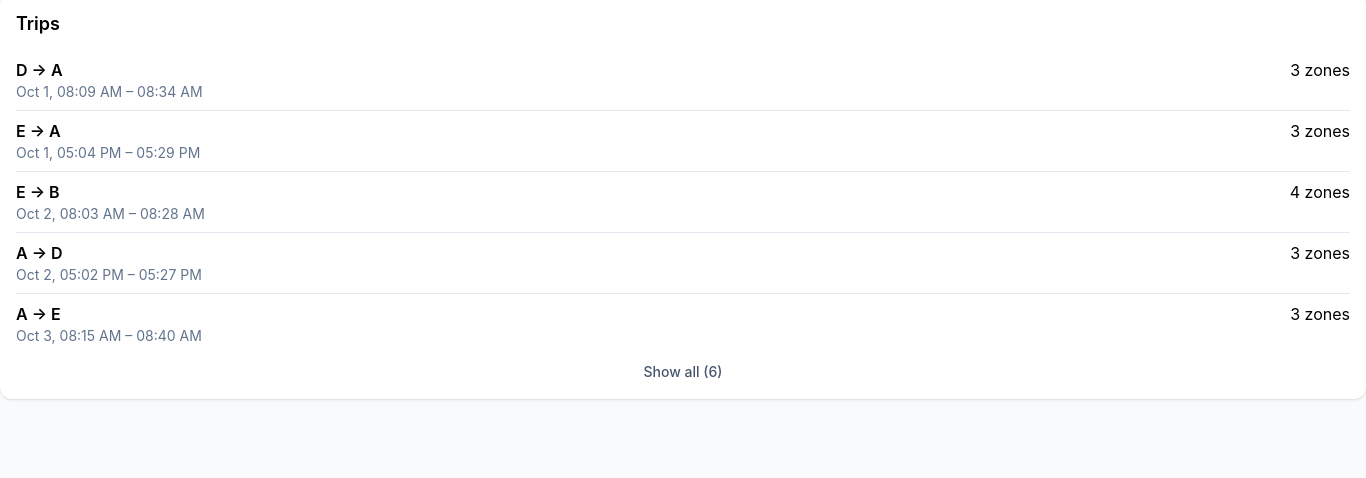
Test: renders five trips and expands to six
Click the button "Show all (6)": (683, 372) 16,362 -> 1350,382
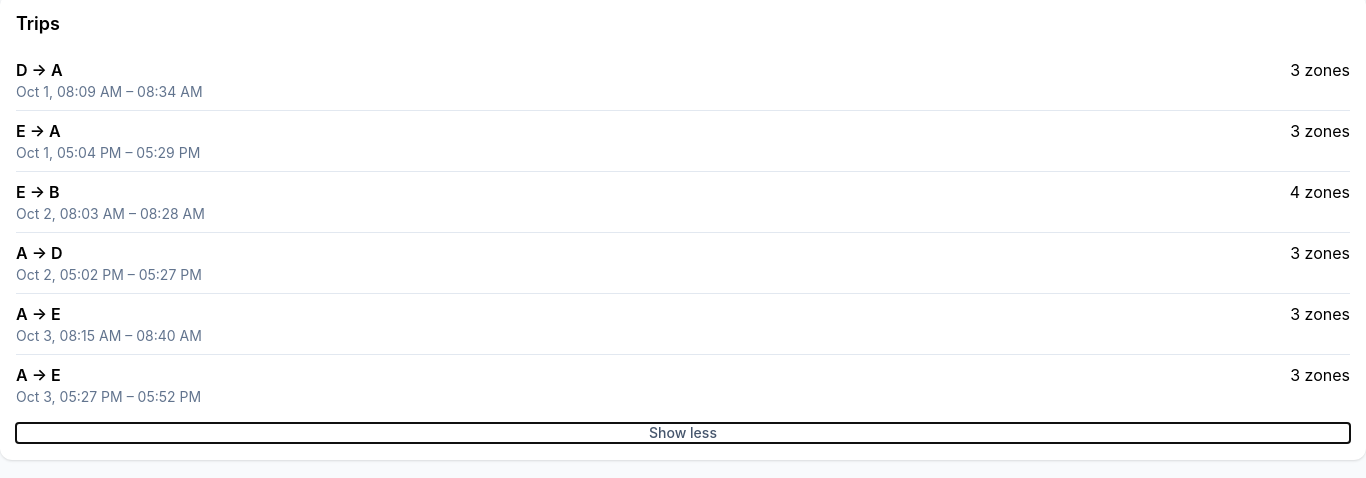
Now the number of list items is 6, box 16,50 -> 1350,111; 16,111 -> 1350,172; 16,172 -> 1350,233; 16,233 -> 1350,294; 16,294 -> 1350,355; 16,355 -> 1350,415
Now the button "Show less" is shown, box 16,423 -> 1350,443
